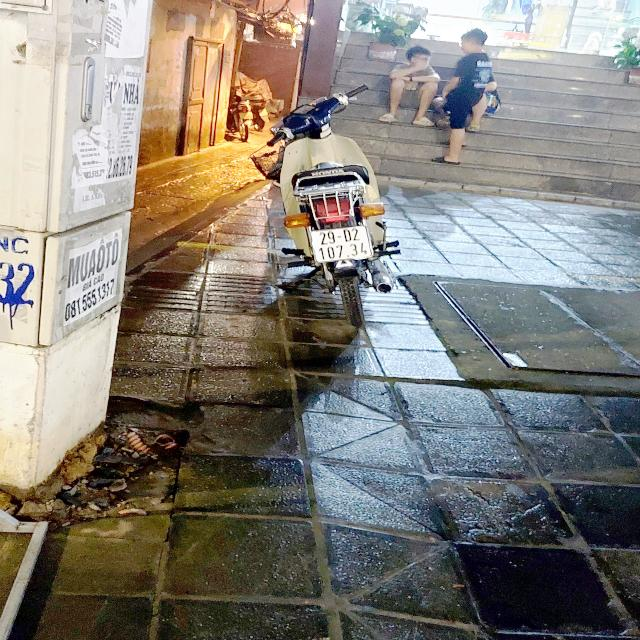license_plate: (306, 223, 377, 267)
